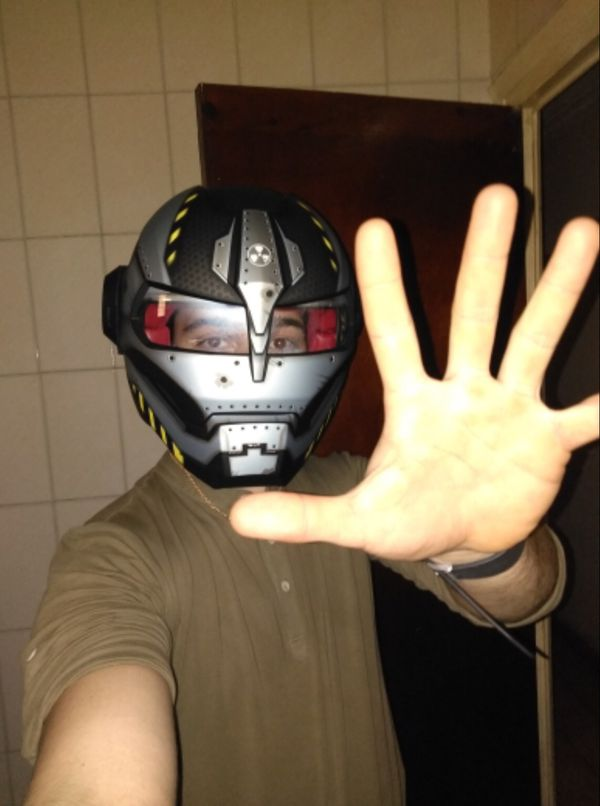with_helmet: (99, 186, 368, 500)
